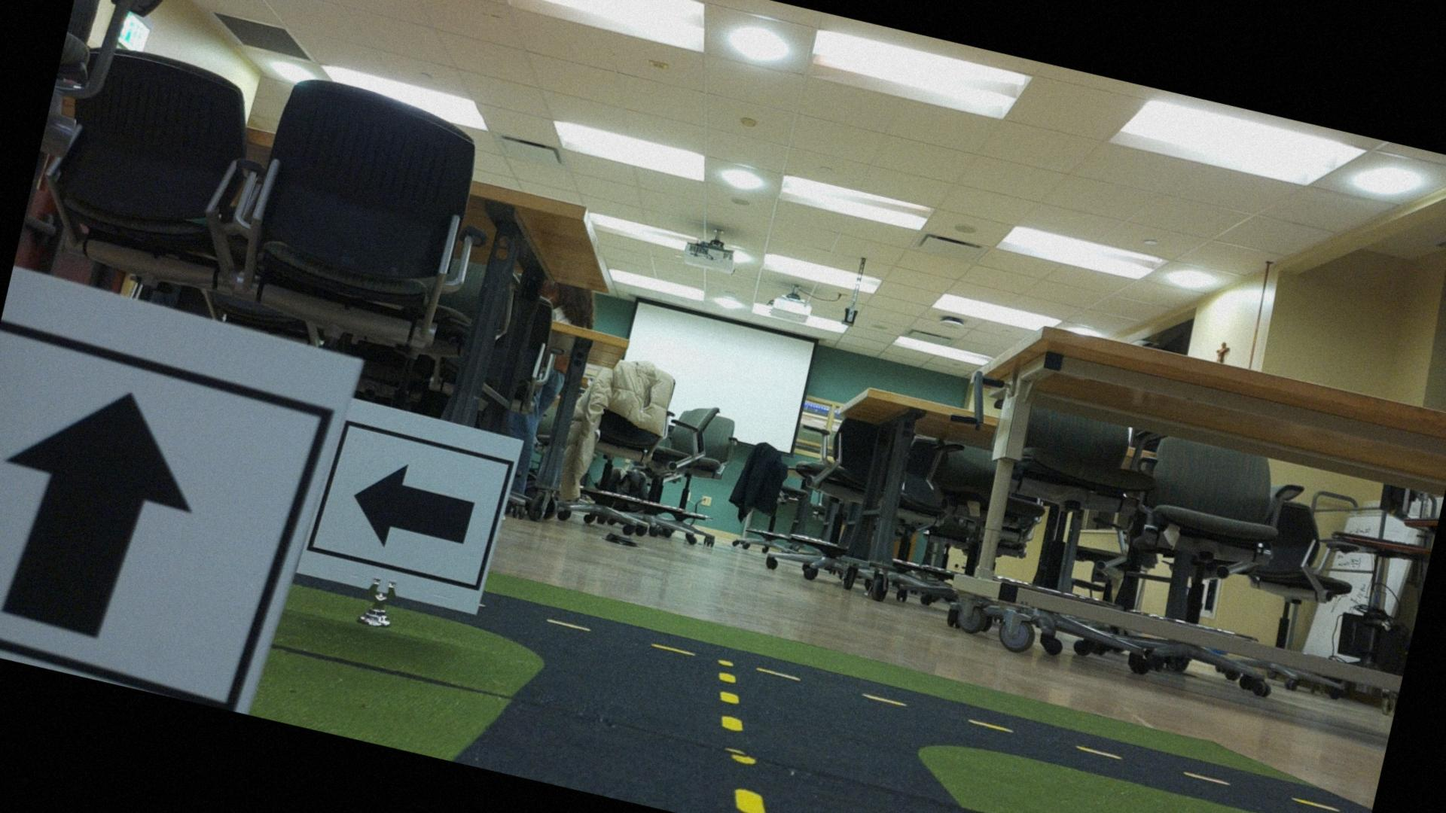gostraight: (0, 278, 337, 716)
turnleft: (308, 405, 516, 617)
yellowline: (691, 671, 789, 812)
